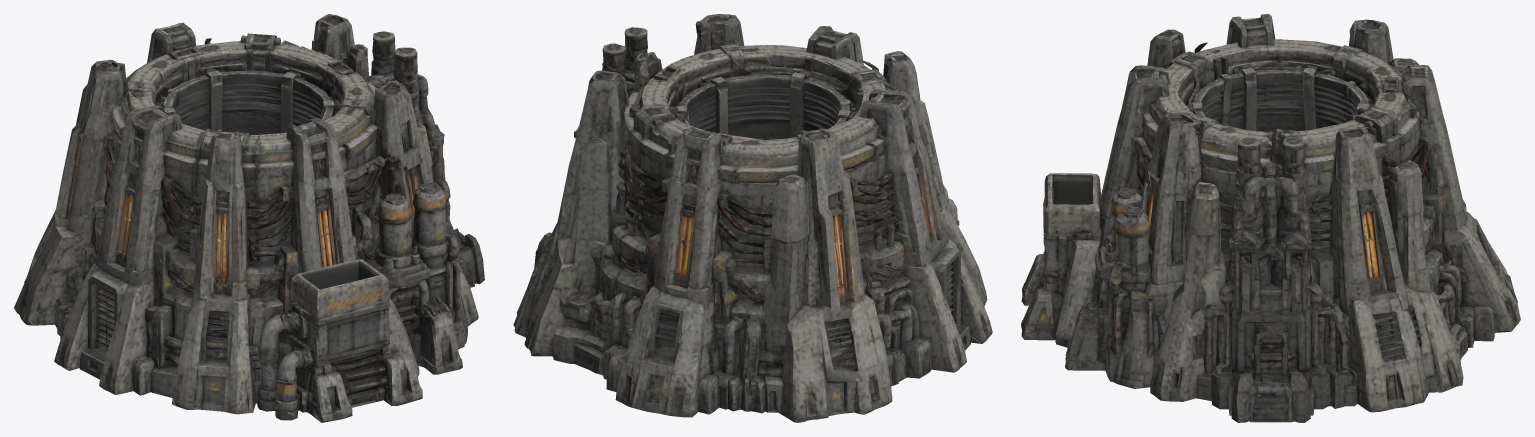
Rendered from sink.core.l3.glb.
The picture shows the model from 3 angles, left to right: view 1: azimuth 30°, elevation 25°; view 2: azimuth 150°, elevation 25°; view 3: azimuth 270°, elevation 25°; orthographic projection.
Visible parts, largest first — view 1: body; view 2: body; view 3: body.
Boxes of the visible parts, x1,y1,x2,y2 form: body: [14, 14, 484, 422]; body: [513, 14, 992, 422]; body: [1021, 14, 1520, 422].
Bounding box in the file's own units: 2.28 × 1.3 × 2.4.
Materials: 1 (1 with a texture image).
